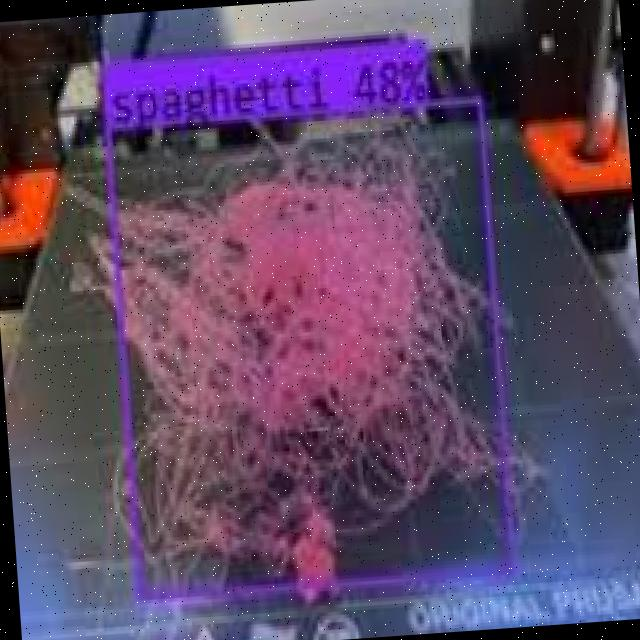spaghetti: (109, 104, 513, 598)
